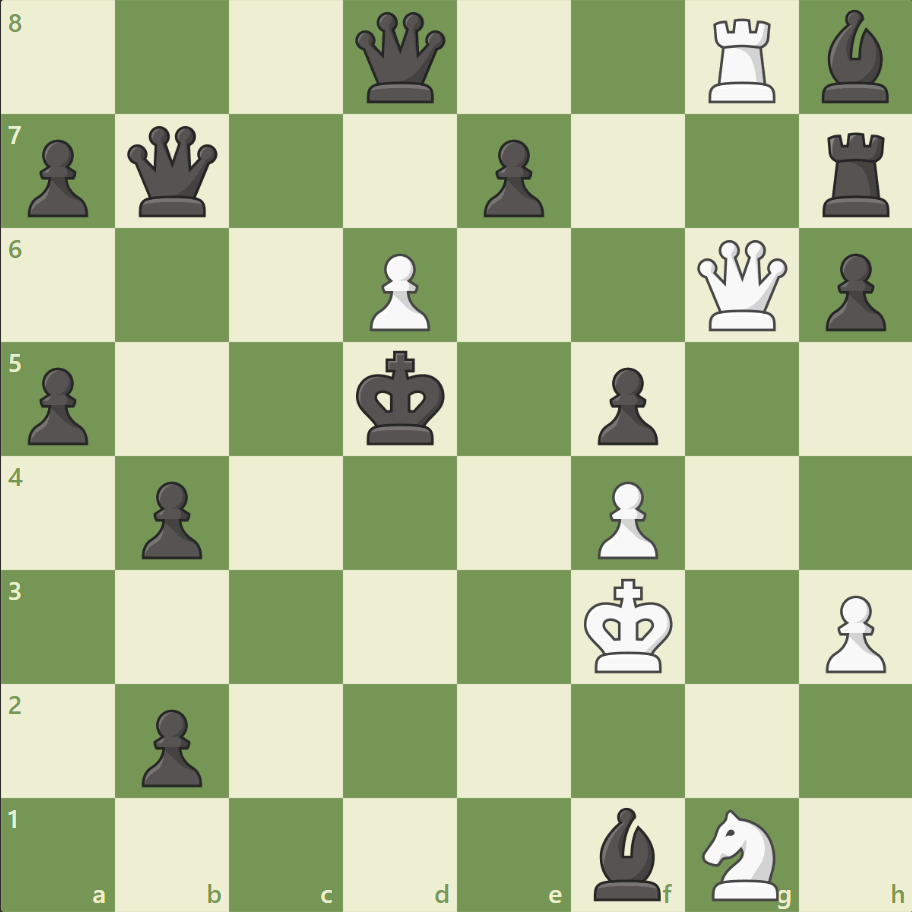K: (579, 571, 679, 679)
N: (692, 802, 789, 904)
P: (361, 246, 435, 337), (588, 473, 662, 564), (815, 586, 889, 677)
Q: (691, 236, 790, 335)
R: (700, 12, 783, 109)
b: (812, 6, 896, 109), (585, 801, 669, 904)
k: (351, 344, 451, 452)
p: (20, 132, 95, 223), (474, 132, 549, 223), (20, 359, 95, 450), (133, 473, 208, 564), (133, 700, 208, 791), (815, 246, 889, 337), (588, 359, 662, 450)
q: (124, 122, 223, 222), (351, 9, 450, 108)
r: (814, 125, 897, 222)
